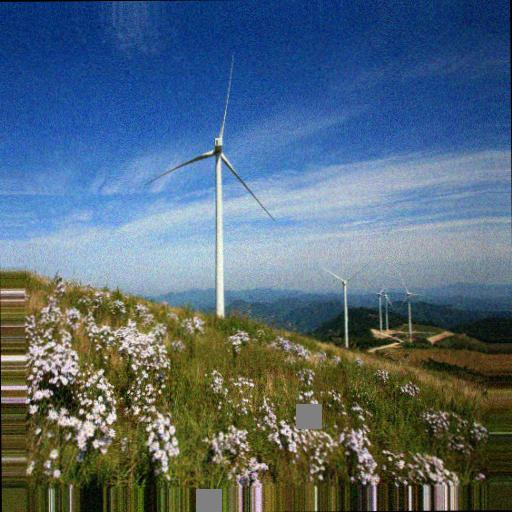wind turbine: (140, 50, 275, 317), (317, 259, 368, 353)
